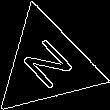N_SE: (15, 32, 79, 96)
